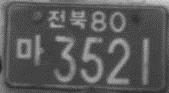0: (108, 10, 126, 32)
1: (141, 36, 152, 86)
2: (106, 36, 131, 86)
3: (53, 35, 78, 82)
5: (79, 36, 103, 83)
8: (90, 9, 107, 32)
마: (14, 33, 45, 67)
전북_O: (46, 9, 87, 29)
